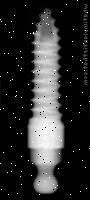Hiossen: (23, 6, 67, 195)
